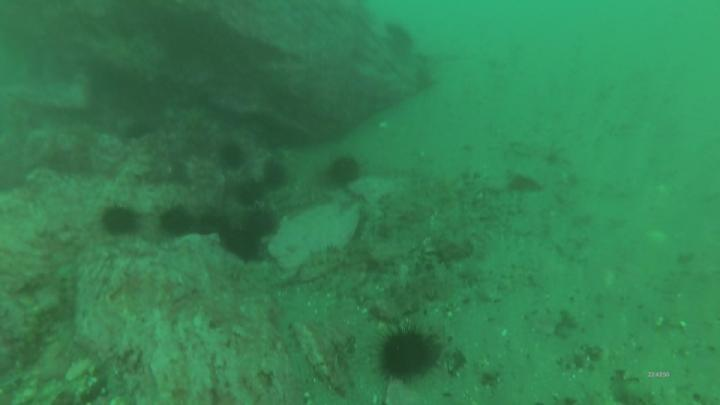echinus: (370, 323, 442, 387), (325, 153, 365, 191), (220, 227, 263, 262), (98, 203, 139, 239), (157, 202, 194, 236), (248, 205, 281, 241), (214, 140, 250, 172), (383, 18, 415, 51), (235, 178, 269, 209), (194, 210, 228, 240), (262, 157, 293, 187)
